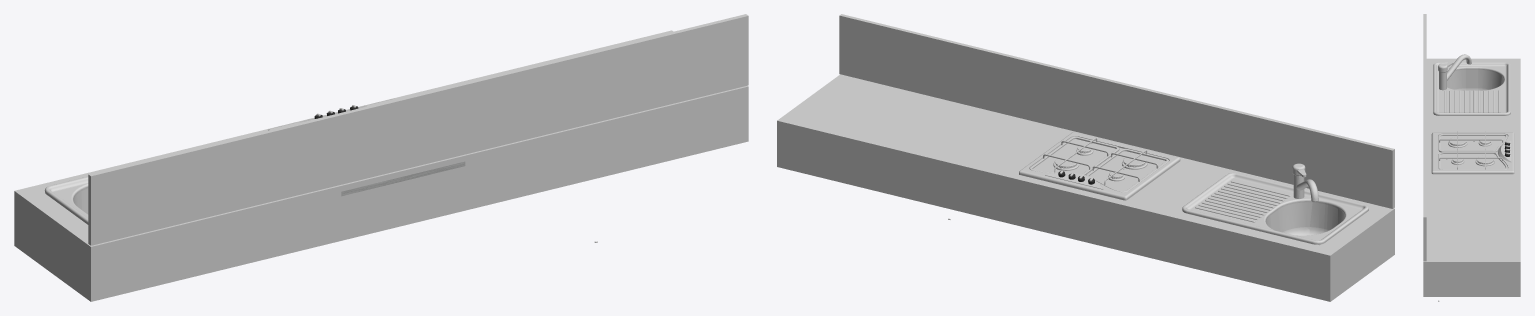
Rendered from cuisine2.FBX.
3 views of the same model, side by side, from view 1: azimuth 30°, elevation 25°; view 2: azimuth 150°, elevation 25°; view 3: azimuth 270°, elevation 25° (orthographic). The views are drawn at different scales.
Parts seen in each view (by area): view 1: _DGeom_426, _DGeom_50, _DGeom_282, _DGeom_37, _DGeom_26, _DGeom_46; view 2: _DGeom_50, _DGeom_426, _DGeom_282, _DGeom_6, _DGeom_300, _DGeom_301, _DGeom_298; view 3: _DGeom_50, _DGeom_282, _DGeom_6, _DGeom_426, _DGeom_300, _DGeom_298, _DGeom_301, _DGeom_320, _DGeom_57, _DGeom_115, _DGeom_308, _DGeom_251.
Boxes of the visible parts, x1,y1,x2,y2 form: _DGeom_426: [88, 14, 748, 245]; _DGeom_50: [14, 30, 748, 301]; _DGeom_282: [44, 176, 88, 224]; _DGeom_37: [341, 161, 465, 196]; _DGeom_26: [108, 218, 232, 252]; _DGeom_46: [241, 194, 332, 220]; _DGeom_50: [777, 74, 1394, 301]; _DGeom_426: [839, 14, 1394, 208]; _DGeom_282: [1182, 172, 1368, 245]; _DGeom_6: [1019, 132, 1180, 200]; _DGeom_300: [1292, 163, 1318, 201]; _DGeom_301: [1029, 136, 1119, 175]; _DGeom_298: [1086, 148, 1168, 192]; _DGeom_50: [1423, 58, 1520, 296]; _DGeom_282: [1433, 62, 1510, 115]; _DGeom_6: [1431, 132, 1514, 174]; _DGeom_426: [1423, 14, 1426, 261]; _DGeom_300: [1438, 54, 1471, 90]; _DGeom_298: [1438, 134, 1507, 152]; _DGeom_301: [1438, 152, 1507, 169]; _DGeom_320: [1498, 141, 1511, 162]; _DGeom_57: [1439, 157, 1503, 160]; _DGeom_115: [1439, 139, 1503, 142]; _DGeom_308: [1476, 155, 1493, 163]; _DGeom_251: [1449, 137, 1466, 144].
Size of the model in its own units: 4925 by 1443 by 995.
2 materials, 2 textured.
